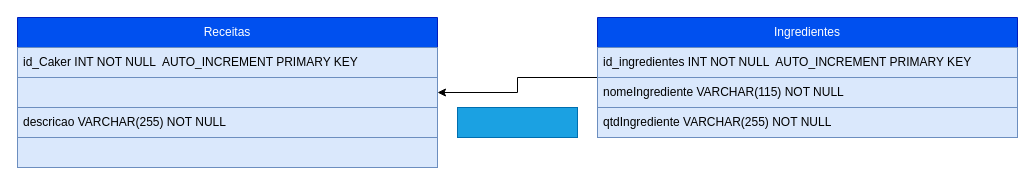
The diagram is 1035 pixels wide and 185 high, and some of its shapes have lost their labels. Each missing label, with the centre of its shape:
1:N: the point at 517,122
fk_id_ingredientes: the point at 227,152
nomeReceita VARCHAR(115) NOT NULL: the point at 227,92
